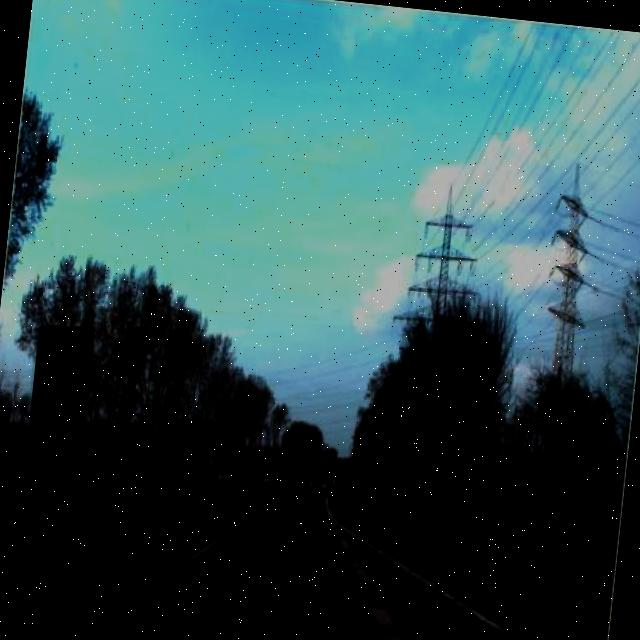Ograniczenie predkosci do 70: (67, 384, 90, 418), (385, 408, 408, 442)
